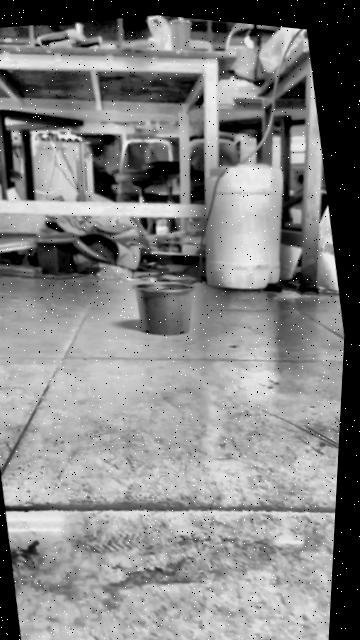pot: (126, 271, 204, 343)
